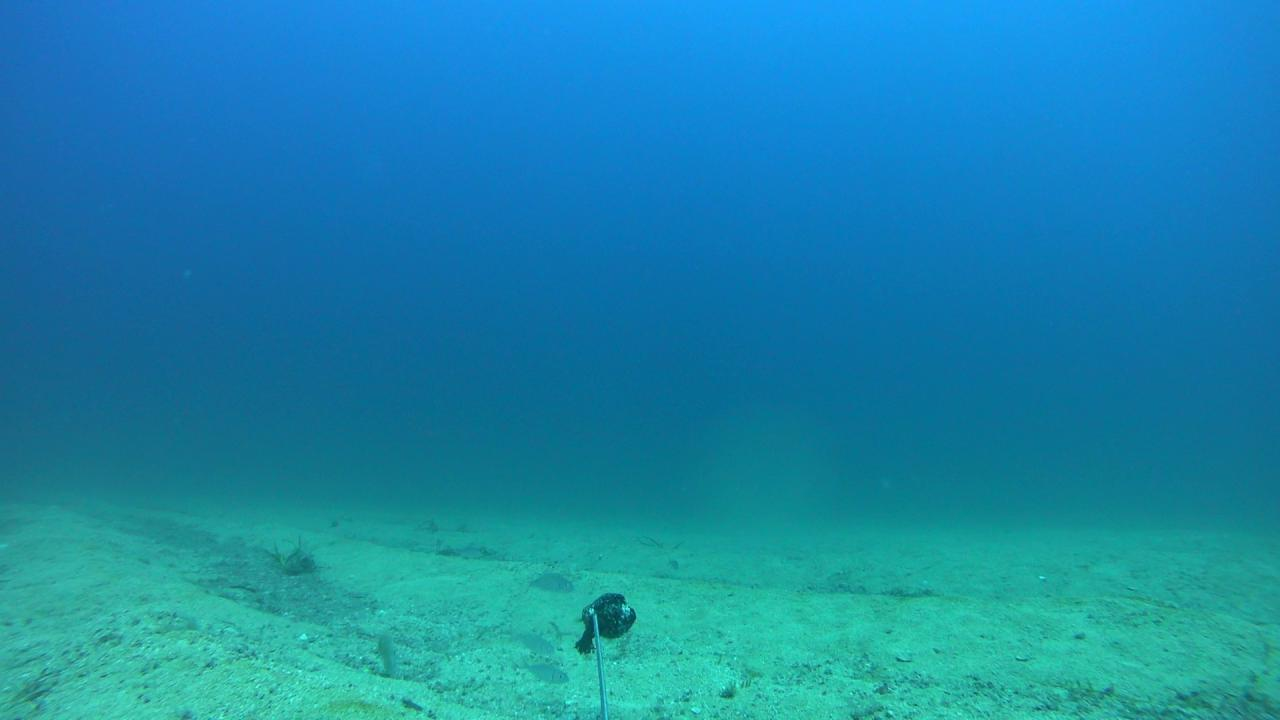pagellus: (519, 653, 568, 685), (506, 626, 552, 654), (525, 574, 577, 594)
